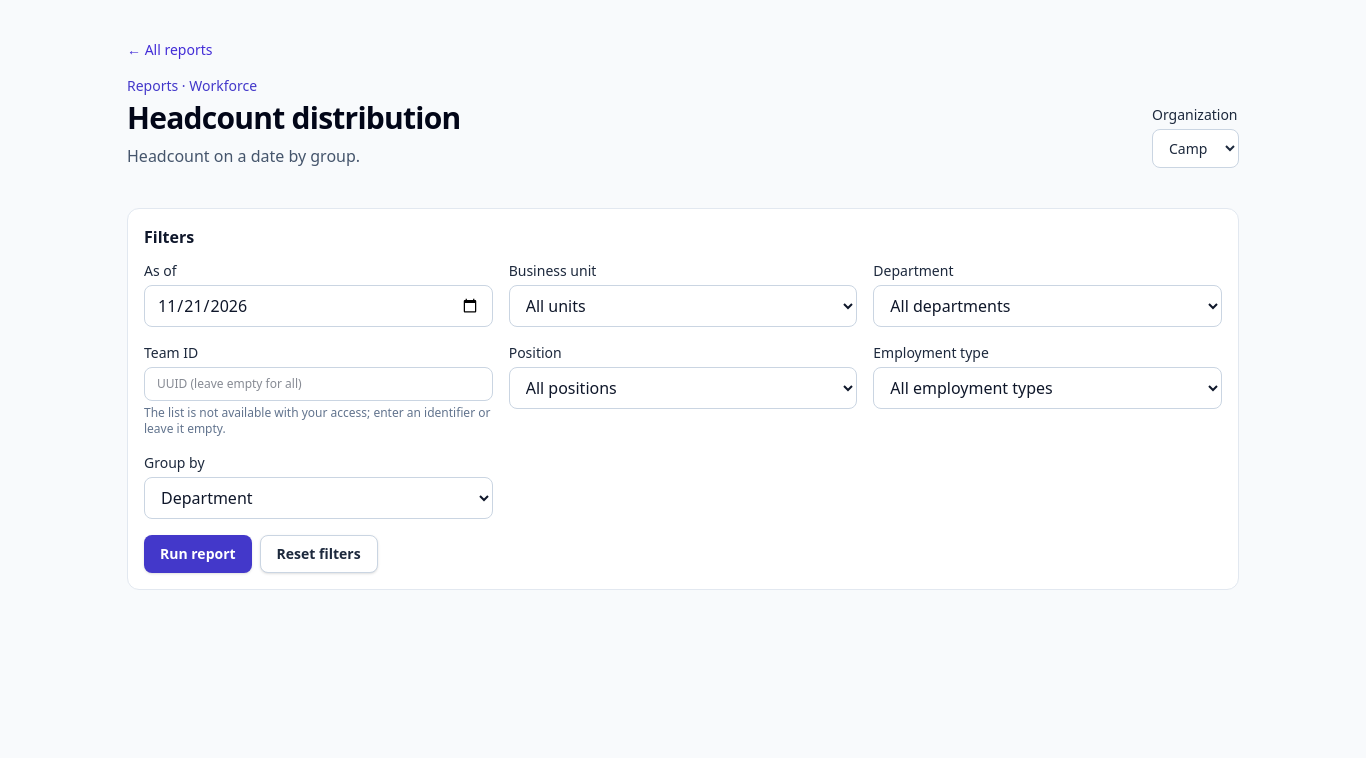
Scenario: ReportPage › runs the report with the chosen filters and renders typed results
The image size is (1366, 758).
Expected: the form named "Report filters" is shown, [144,261,1222,573]
In the date field labelled "As of": [318, 306] box [144,285,493,327], type "2026-09-30"
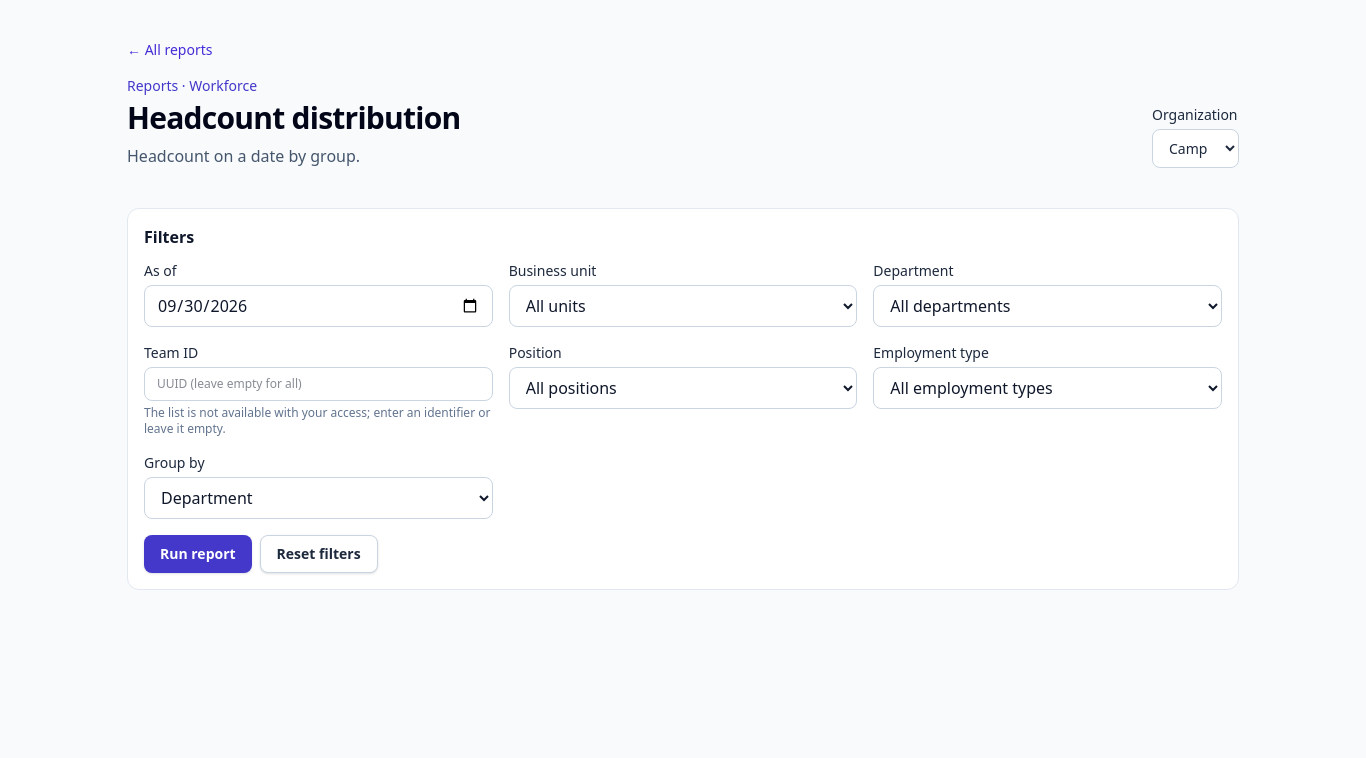
Select "Field (FLD)" in the dropdown labelled "Department": [1048, 306] box [873,285,1222,327]
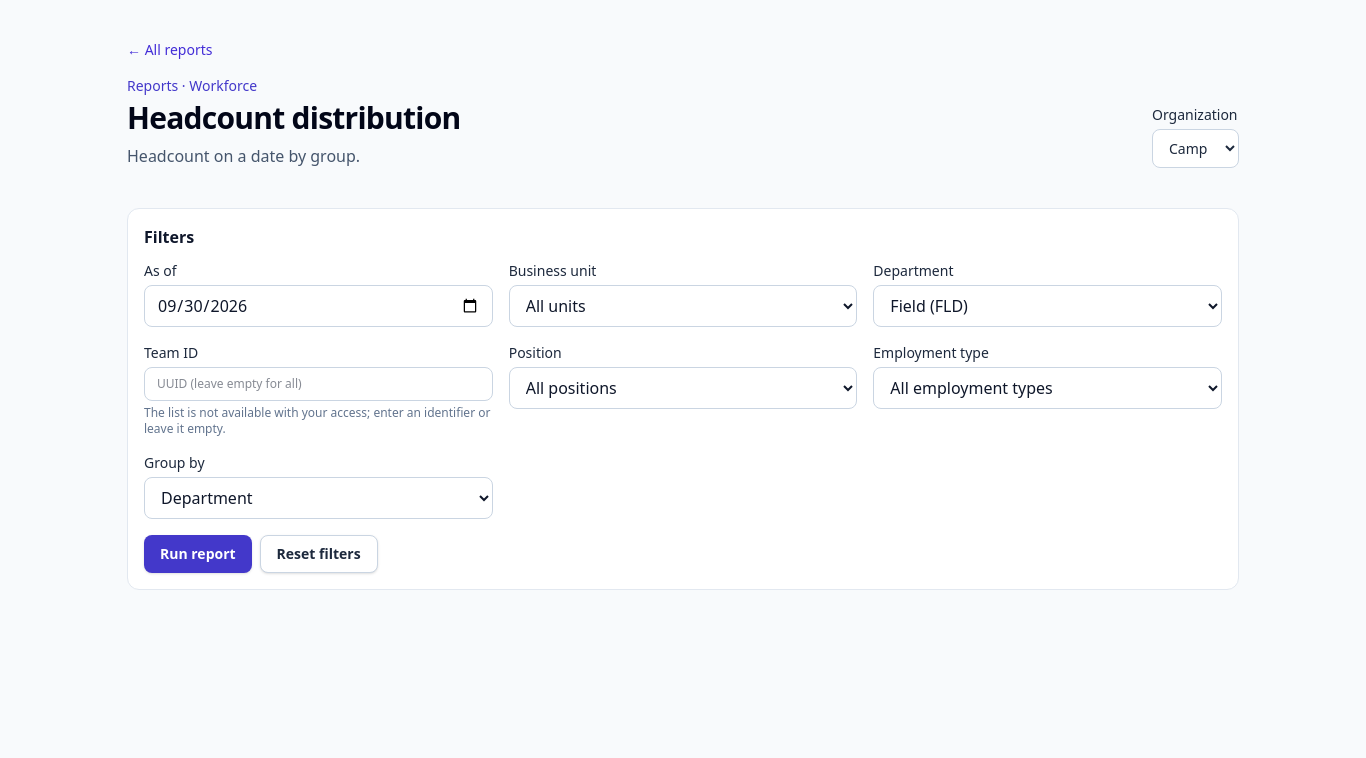
Select "Part time" in the dropdown labelled "Employment type": [1048, 388] box [873,367,1222,409]
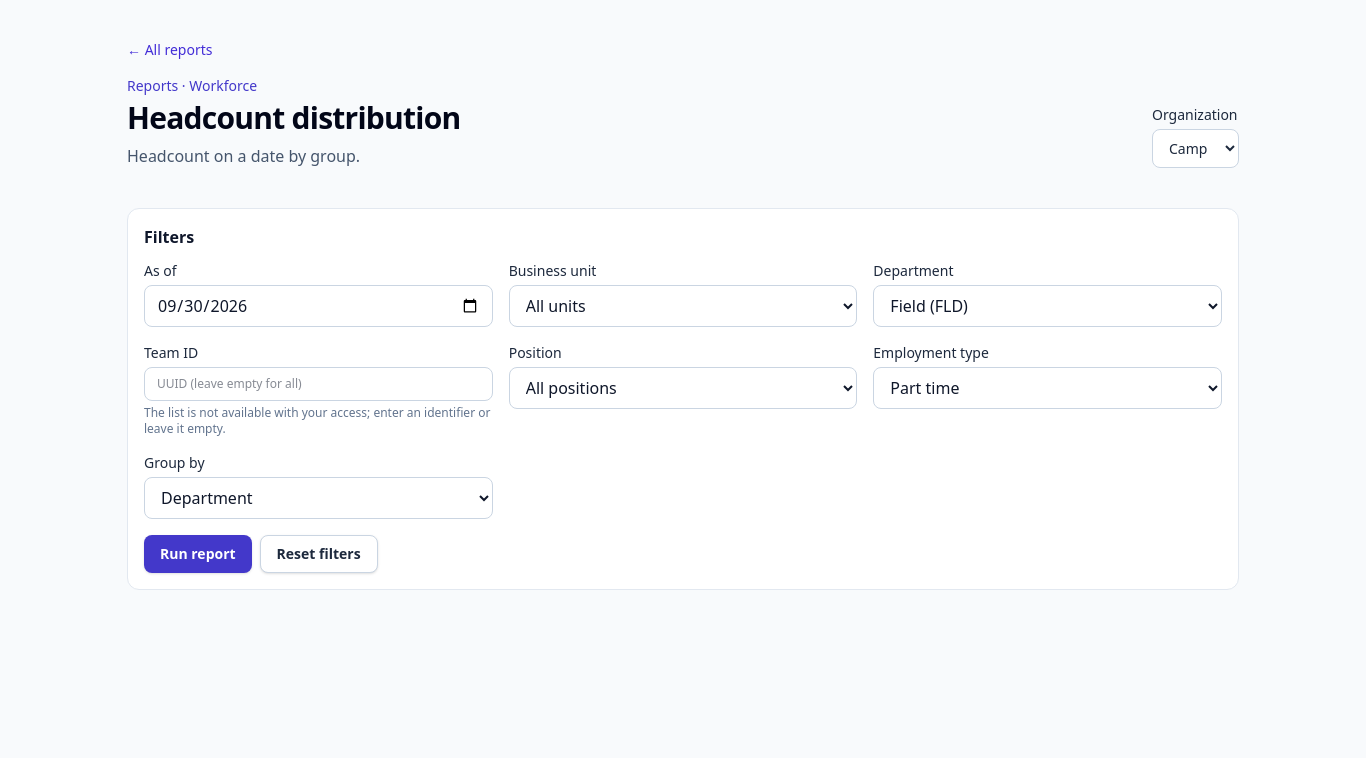
Select "Team" in the dropdown labelled "Group by": [318, 498] box [144,477,493,519]
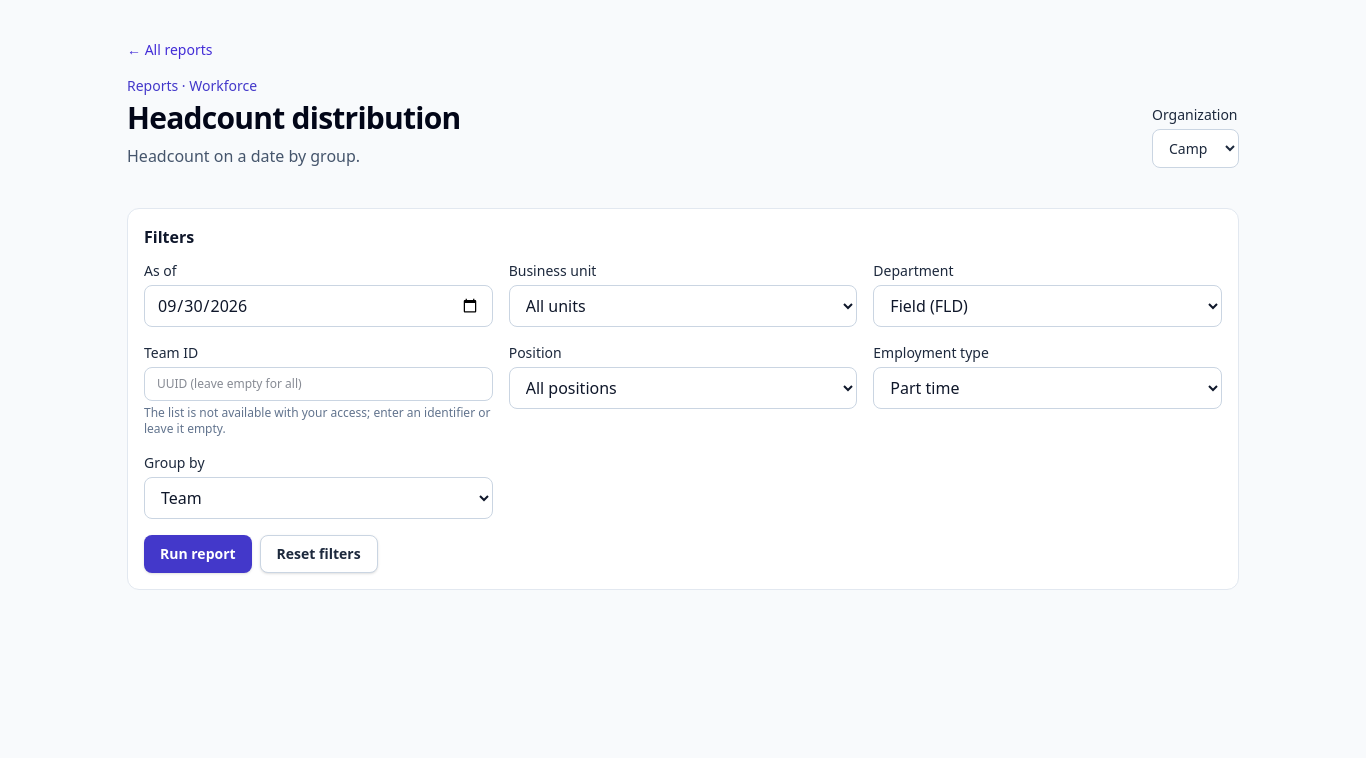
Click the button "Run report": [198, 554] box [144,535,252,573]
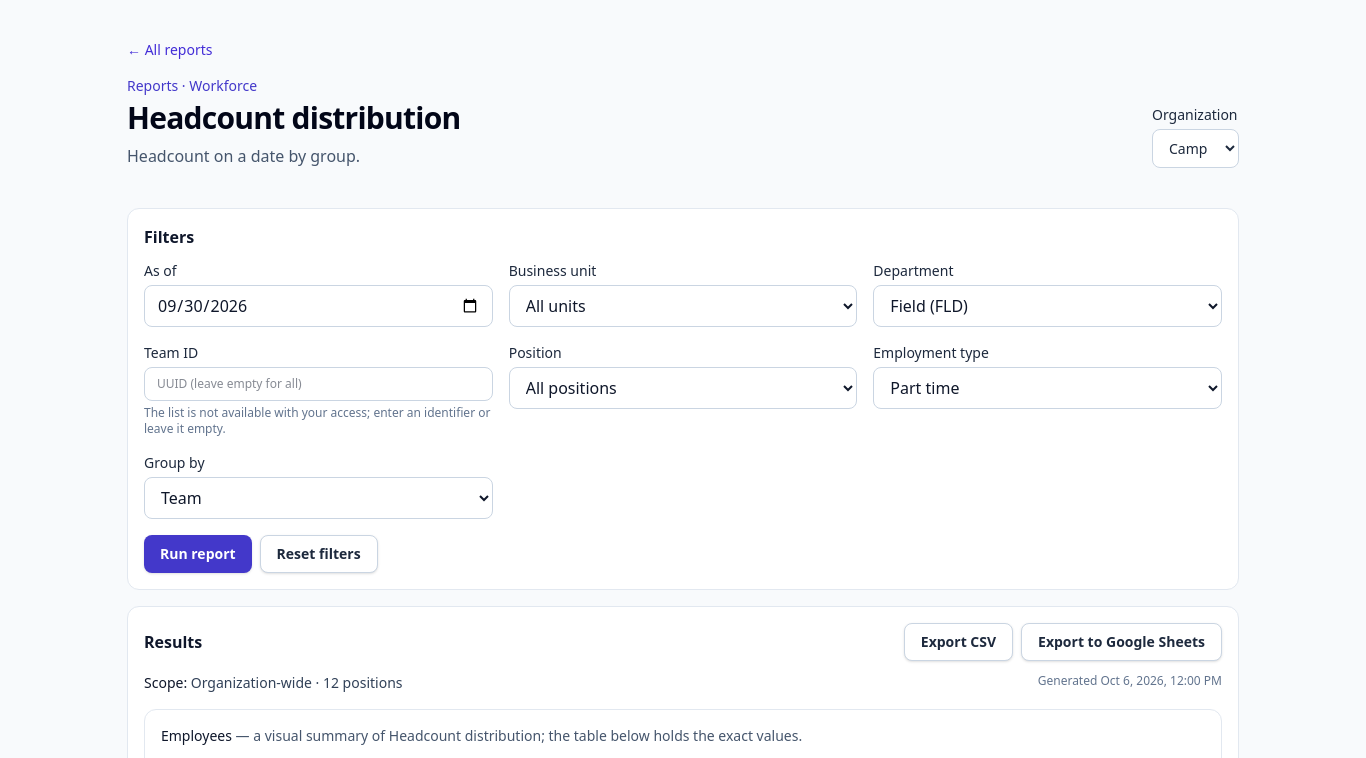
Result: the element with test id "scope-summary" shows "Organization-wide" at [191,673,403,692]
Result: the element with test id "scope-summary" shows "12 positions" at [191,673,403,692]
Result: the text "a visual summary of Headcount distribution" is shown at [236,726,802,745]
